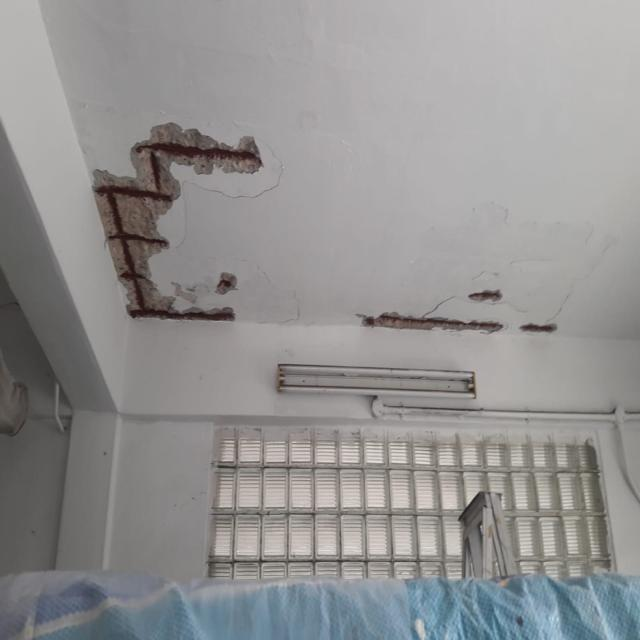Spalling: (90, 115, 272, 339), (348, 256, 575, 356)
